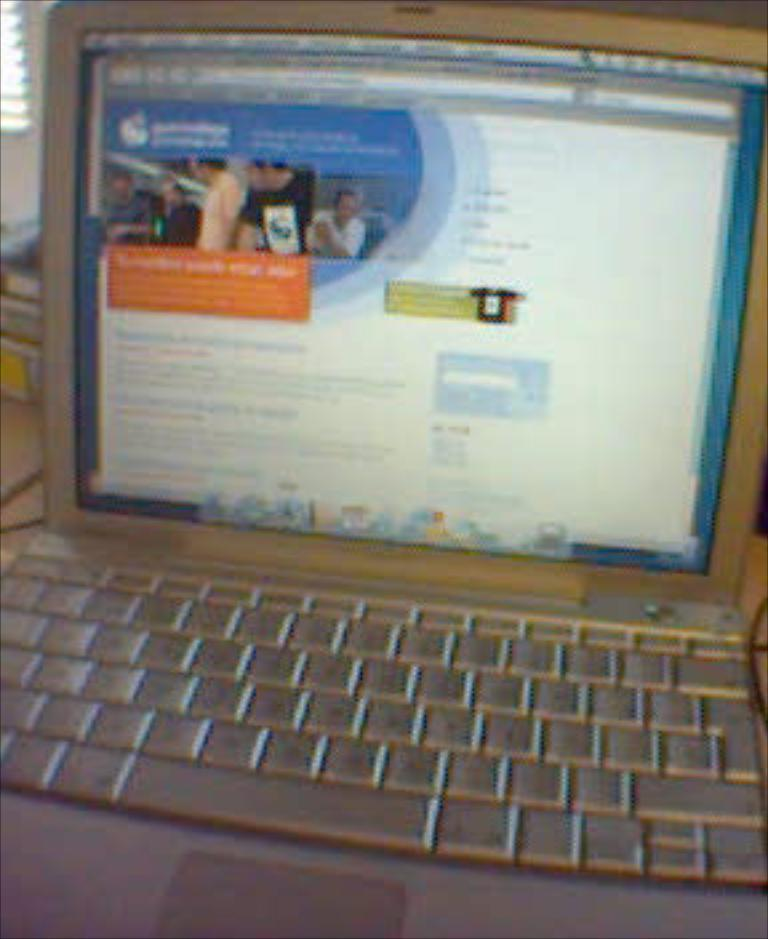Laptop: (0, 67, 768, 920)
